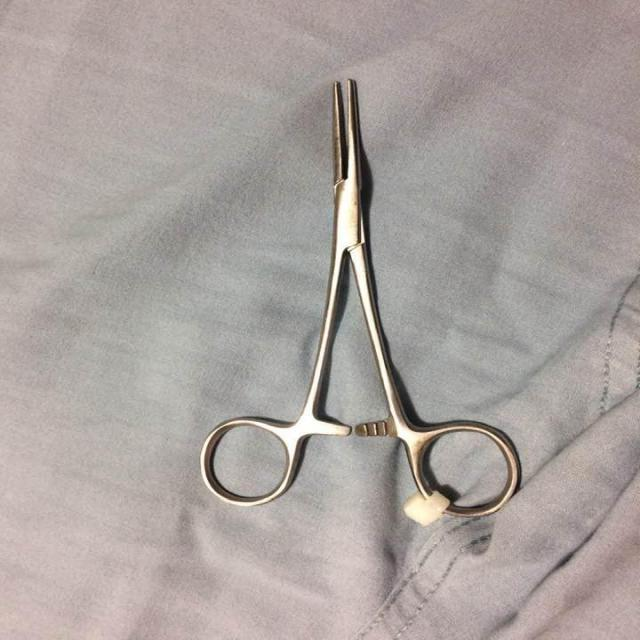Hemostat: (193, 74, 528, 524)
